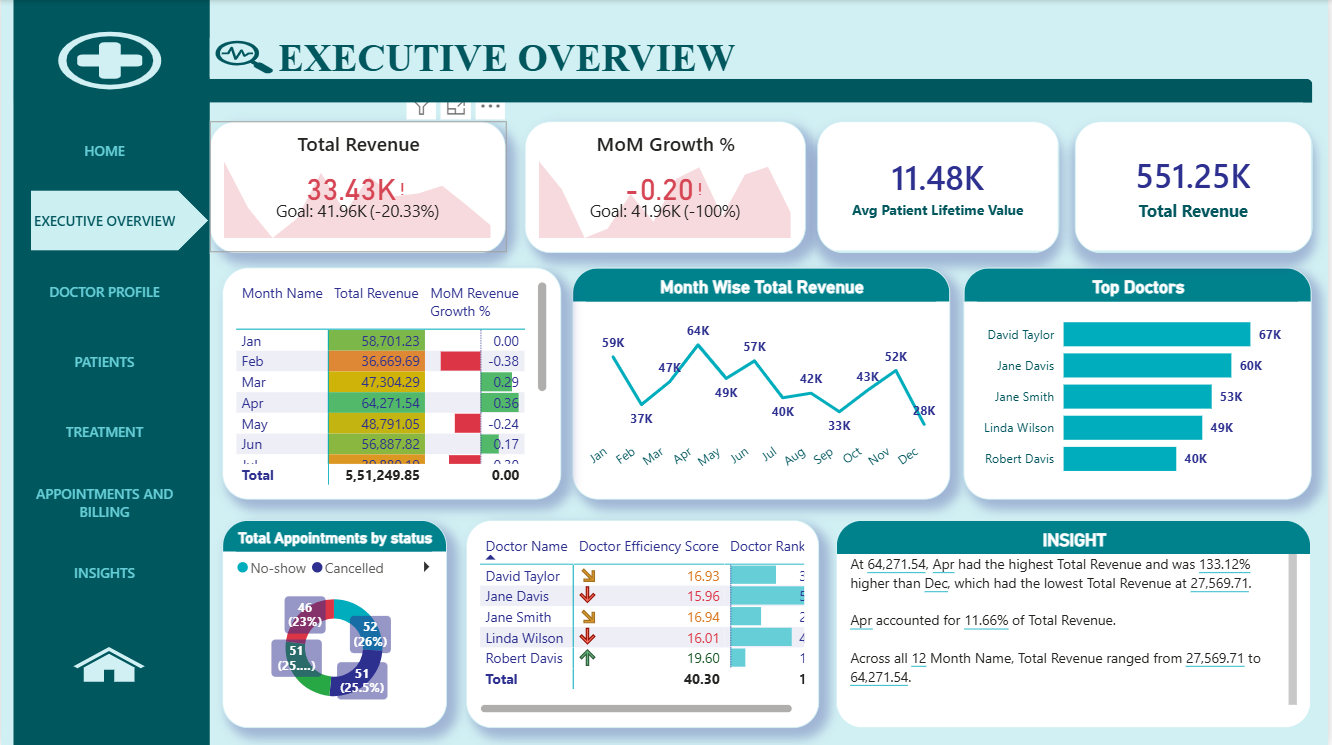

What the dashboard file says about the page in this screenshot:
{"tool":"powerbi","page":{"name":"EXECUTIVE OVERVIEW","canvas":[1280,720],"ordinal":1},"visuals":[{"type":"kpi","title":"Total Revenue","fields":{"Indicator":["billing.Total Revenue"],"Goal":["billing.Previous Month Revenue"],"TrendLine":["DateTable.Month Year"]},"box":[202,116.9,285.7,127],"z":0},{"type":"kpi","title":"MoM  Growth % ","fields":{"Goal":["billing.Previous Month Revenue"],"TrendLine":["DateTable.Month Year"],"Indicator":["billing.MoM Revenue Growth %"]},"box":[505,116.9,271.2,127],"z":1000},{"type":"cardVisual","fields":{"Data":["billing.Avg Patient Lifetime Value"]},"box":[787.7,116.9,233.7,127],"z":2000},{"type":"lineChart","title":"Month Wise Total Revenue","fields":{"Y":["billing.Total Revenue"],"Category":["DateTable.Month Name"]},"box":[551.1,258.3,365,223.6],"z":3000},{"type":"barChart","title":"Top Doctors","fields":{"Category":["doctors.Full Name"],"Y":["doctors.Doctor Revenue"]},"box":[929.1,258.3,336.2,223.6],"z":4000},{"type":"donutChart","fields":{"Category":["appointments.status"],"Y":["appointments.Total Appointments"]},"box":[213.5,502.1,216.4,200.5],"z":5000},{"type":"pivotTable","fields":{"Rows":["doctors.Full Name"],"Values":["doctors.Doctor Efficiency Score","doctors.Doctor Rank"]},"box":[448.7,502.1,340.5,200.5],"z":6000},{"type":"shape","box":[12.1,0,189.4,720.2],"z":7000},{"type":"cardVisual","fields":{"Data":["billing.Total Revenue"]},"box":[1035.9,116.9,229.4,127],"z":8000},{"type":"textbox","title":"INSIGHT","box":[806.5,502.1,458.8,200.5],"z":9000},{"type":"pivotTable","fields":{"Values":["billing.Total Revenue","billing.MoM Revenue Growth %"],"Rows":["DateTable.Month Name"]},"box":[213.5,258.3,327.5,223.6],"z":10000},{"type":"shape","box":[11.5,76.5,1253.8,23.1],"z":11000},{"type":"textbox","box":[152.9,28.9,669.4,59.2],"z":12000},{"type":"pageNavigator","box":[28.9,115.4,171.7,470.3],"z":13000},{"type":"image","box":[42.2,0,125.5,117],"z":14000},{"type":"image","box":[65.1,602,78.4,78.4],"z":15000},{"type":"image","box":[201.5,35,67.6,41],"z":16000}]}

Visuals, with their boxes on the page's 1280x720 design canvas (x1, y1, x2, y2). These are canvas units, not pixel positions in the 1332x745 screenshot, which may show the page scaled, cropped or inside an application window:
"Total Revenue" kpi: box(202, 117, 488, 244)
"MoM  Growth % " kpi: box(505, 117, 776, 244)
cardVisual - billing.Avg Patient Lifetime Value: box(788, 117, 1021, 244)
"Month Wise Total Revenue" lineChart: box(551, 258, 916, 482)
"Top Doctors" barChart: box(929, 258, 1265, 482)
donutChart - appointments.status x appointments.Total Appointments: box(214, 502, 430, 703)
pivotTable - doctors.Full Name x doctors.Doctor Efficiency Score: box(449, 502, 789, 703)
shape: box(12, 0, 202, 720)
cardVisual - billing.Total Revenue: box(1036, 117, 1265, 244)
"INSIGHT" textbox: box(806, 502, 1265, 703)
pivotTable - billing.Total Revenue x billing.MoM Revenue Growth %: box(214, 258, 541, 482)
shape: box(12, 76, 1265, 100)
textbox: box(153, 29, 822, 88)
pageNavigator: box(29, 115, 201, 586)
image: box(42, 0, 168, 117)
image: box(65, 602, 144, 680)
image: box(202, 35, 269, 76)
